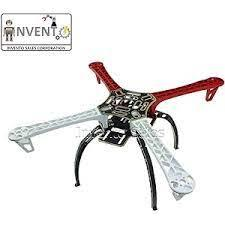drone: (9, 60, 222, 200)
